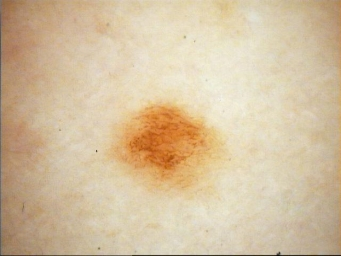melanoma: (119, 107, 233, 185)
